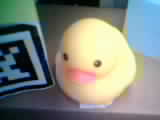duck: (46, 17, 138, 112)
